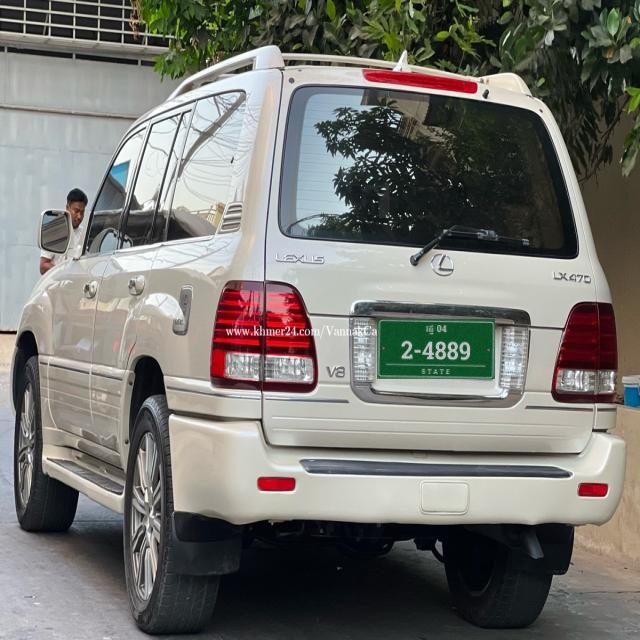Plate Number: (377, 320, 495, 379)
